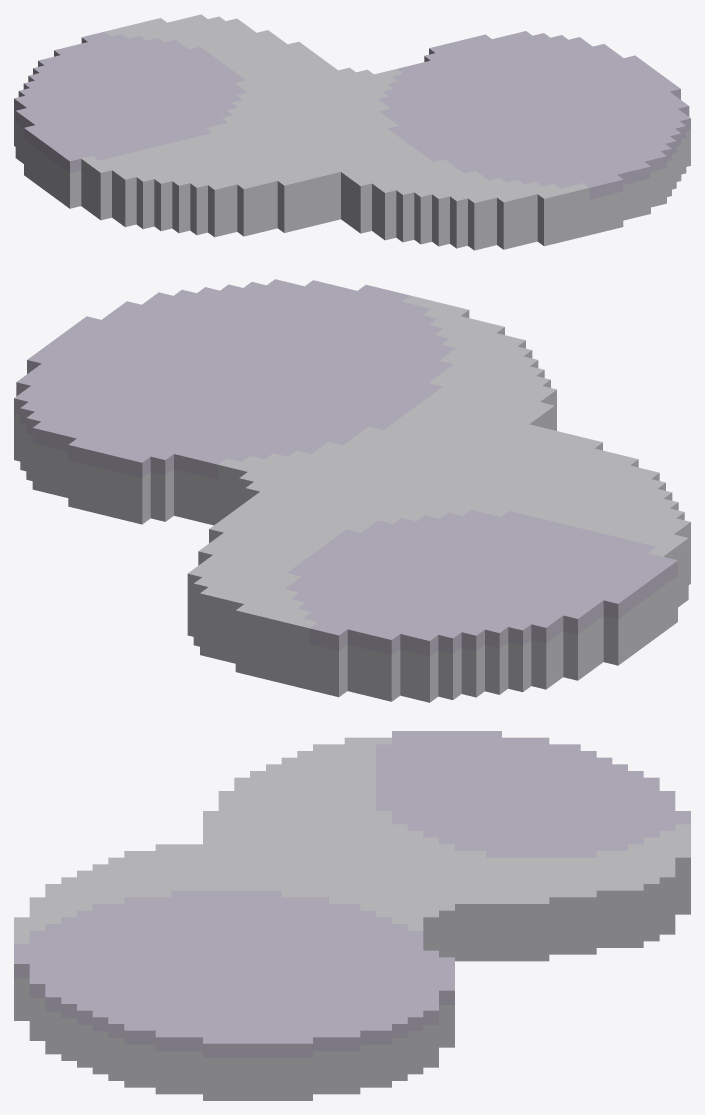
File: ggj2020_stage_mini3.obj
3 renders of one model, top to bottom at view 1: azimuth 30°, elevation 25°; view 2: azimuth 150°, elevation 25°; view 3: azimuth 270°, elevation 25°, orthographic. The views are drawn at different scales.
Size of the model in its own units: 4.7 by 0.4 by 4.3.
Materials: 1 (1 with a texture image).
